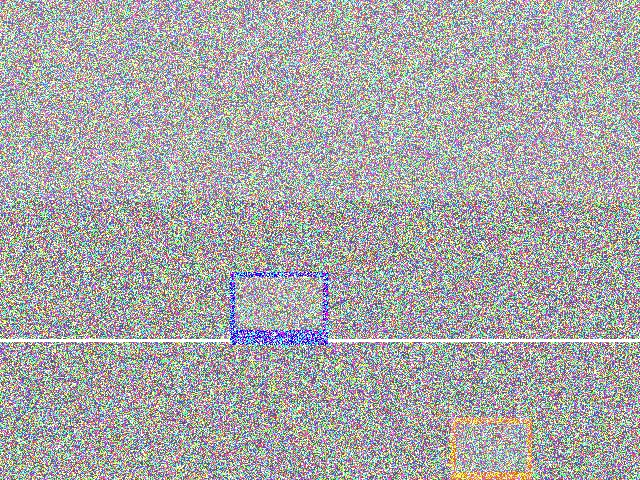bus: (484, 85, 636, 214), (252, 215, 344, 268)
motorcycle: (262, 371, 377, 464)
